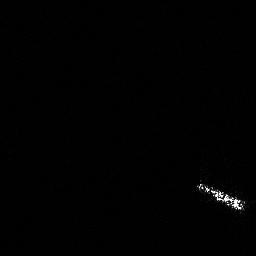ship: (193, 177, 251, 215)
